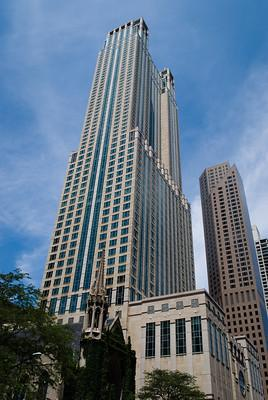building: (46, 15, 196, 400), (199, 161, 268, 400)
